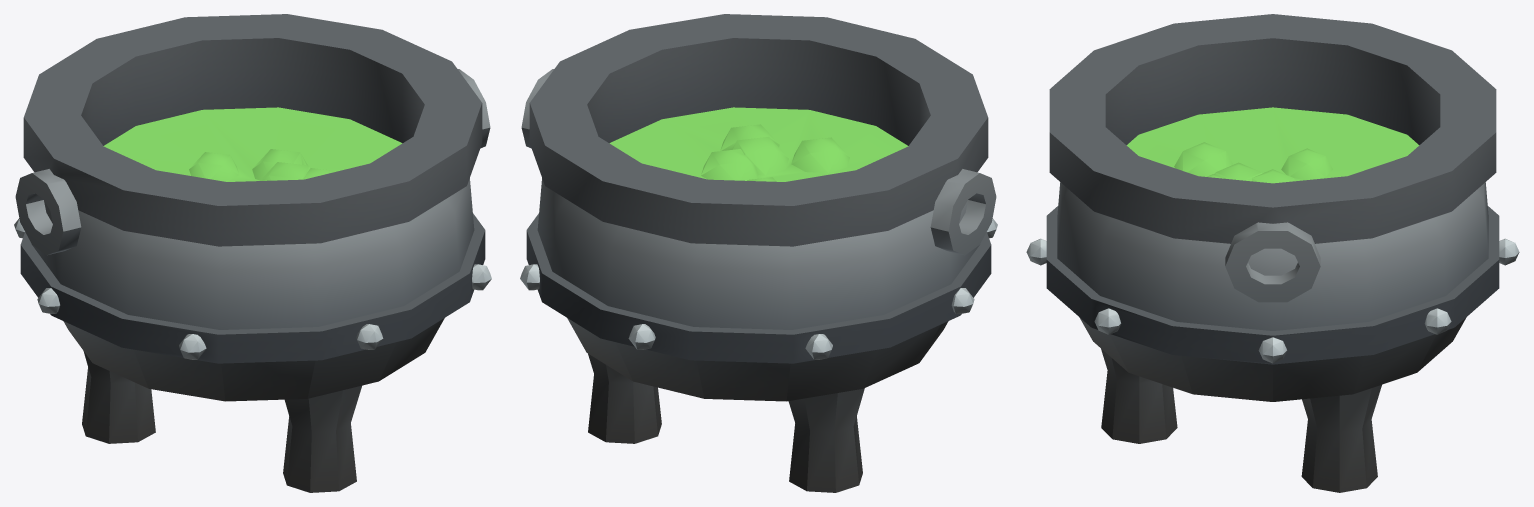
Rendered from cauldron.glb.
3 renders of one model, left to right at view 1: azimuth 30°, elevation 25°; view 2: azimuth 150°, elevation 25°; view 3: azimuth 270°, elevation 25°, orthographic.
Parts seen in each view (by area): view 1: Item; view 2: Item; view 3: Item.
Boxes of the visible parts, x1,y1,x2,y2 form: Item: [14, 14, 491, 492]; Item: [520, 14, 997, 492]; Item: [1026, 14, 1519, 492].
Bounding box in the file's own units: 1.55 × 1.1 × 1.55.
Materials: 3 (3 with a texture image).
